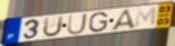3: (22, 18, 42, 40)
A: (110, 8, 138, 32)
G: (88, 11, 109, 34)
M: (133, 5, 158, 29)
U: (41, 15, 65, 38), (67, 12, 89, 36)
